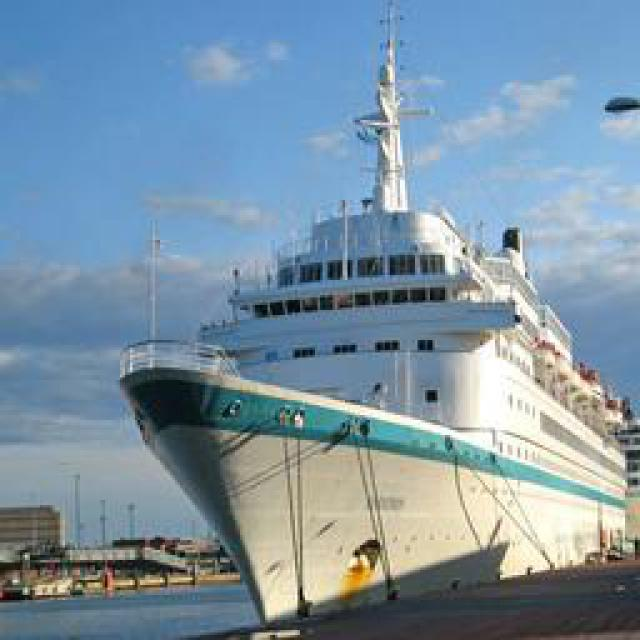Ship: (119, 46, 632, 626)
